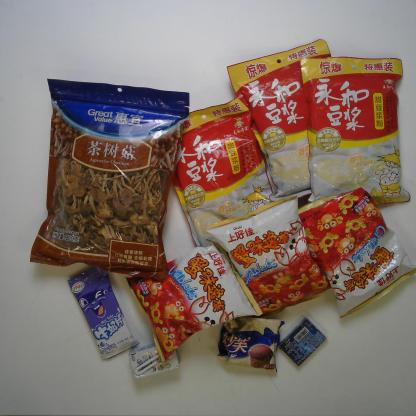Candy: (62, 263, 138, 364)
Dessert: (214, 314, 283, 378)
Dried Food: (28, 75, 183, 286)
Gum: (274, 313, 332, 370)
Instant Drink: (222, 39, 341, 204), (293, 52, 414, 212), (163, 98, 281, 252)
Milk: (125, 341, 181, 381)
Puffed Food: (123, 240, 267, 363), (295, 182, 416, 324), (201, 194, 333, 318)
